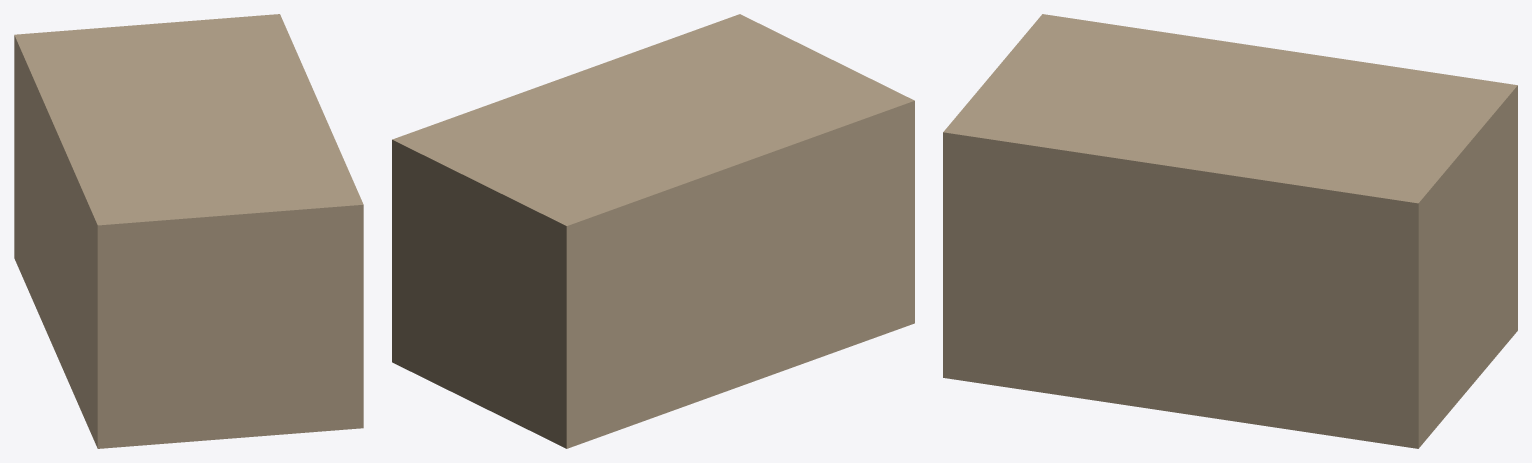
File: bld_101524532.dae
3 views of the same model, side by side, from view 1: azimuth 30°, elevation 25°; view 2: azimuth 150°, elevation 25°; view 3: azimuth 270°, elevation 25° (orthographic). The views are drawn at different scales.
Visible parts, largest first — view 1: bld_101524532; view 2: bld_101524532; view 3: bld_101524532.
Part boxes in pixels (bbox=[...]): bld_101524532: bbox=[14, 14, 363, 448]; bld_101524532: bbox=[392, 14, 914, 448]; bld_101524532: bbox=[943, 14, 1517, 448].
Bounding box in the file's own units: 13.24 × 16.97 × 8.
